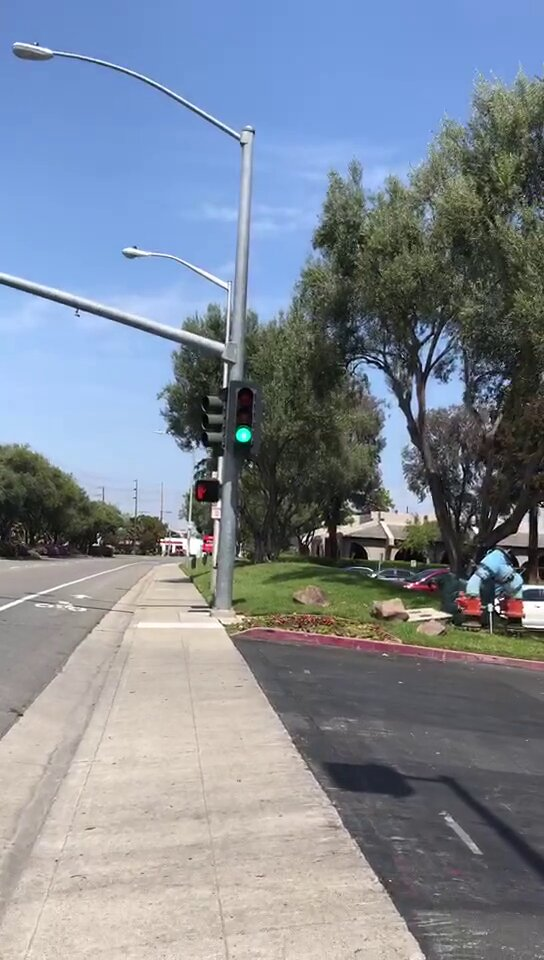green_light: (231, 381, 261, 450)
